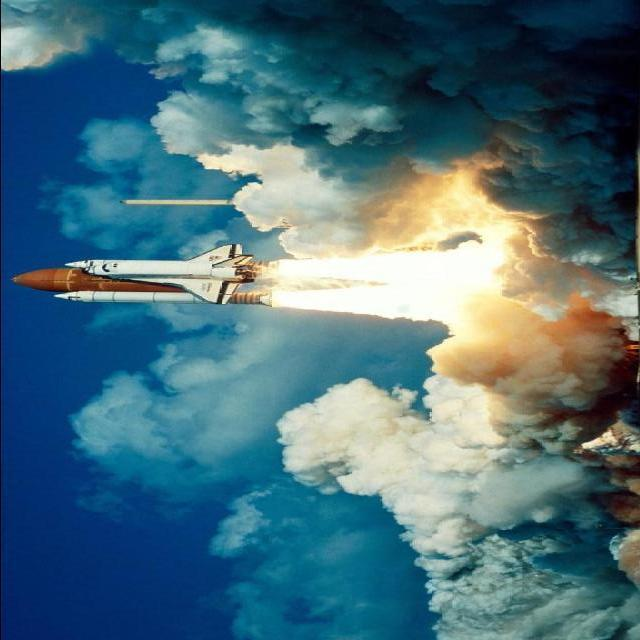missile: (10, 243, 268, 312)
